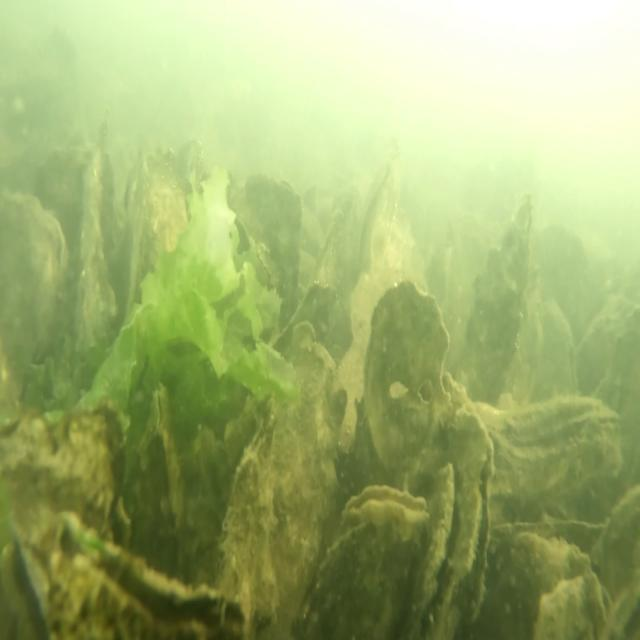Oyster-Closed: (471, 394, 622, 518), (458, 190, 534, 410), (0, 192, 69, 396), (138, 380, 188, 562), (248, 166, 302, 317)
Oyster-Indeterminate: (217, 316, 347, 640), (362, 280, 451, 488), (499, 526, 607, 640), (407, 461, 454, 640), (140, 144, 190, 296)
Oyster-Open: (0, 400, 132, 640), (47, 510, 242, 640), (300, 484, 429, 640), (75, 136, 151, 382), (430, 409, 494, 640)
